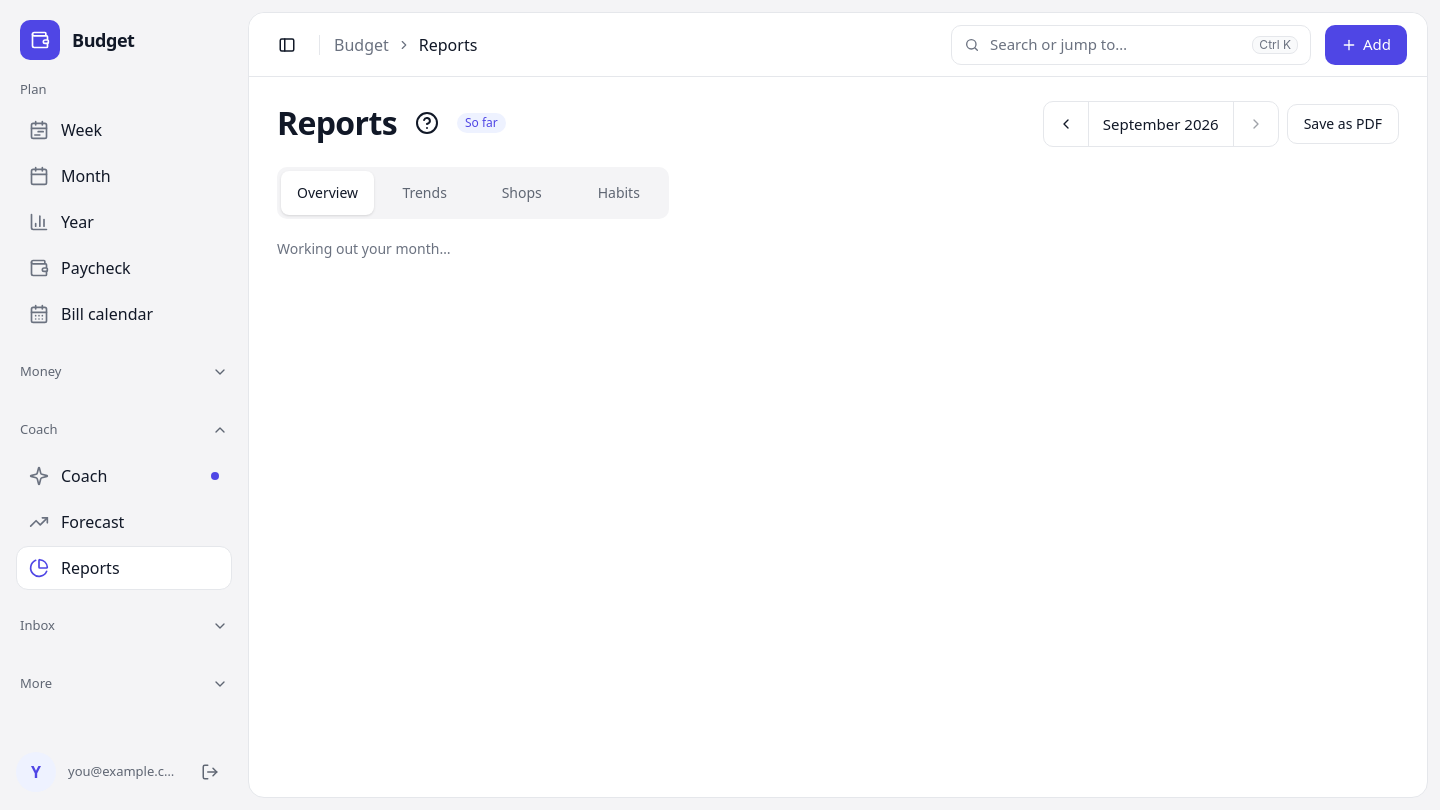
Reports, Habits: streaks, weekdays and personal bests (plan §2.6, A18) › counts the weeks kept, names the costliest weekday and the best month, every figure core’s
Click the tab "Habits" at point(619, 193), box [572,171,665,215]
(page scrolled)
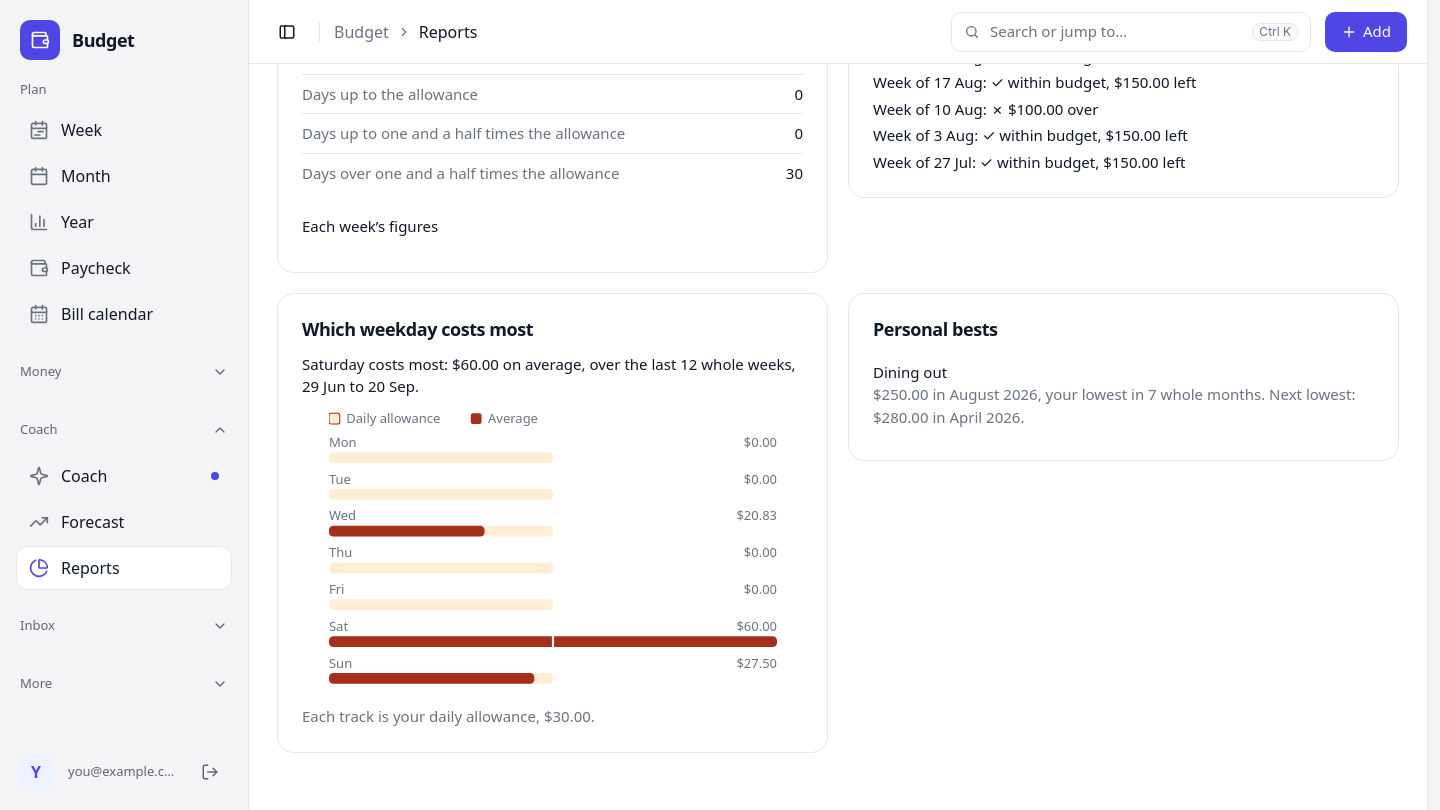
Expected: the list item "Week of 10 Aug: ✗ $100.00 over" is shown, [873,98,1098,118]
Expected: the text "Saturday costs most: $60.00 on average, over the last 12 whole weeks, 29 Jun to 20 Sep." is shown, [302,354,796,396]
Expected: the picture named "Everyday spending on each weekday, on average" is shown, [328,410,776,693]
